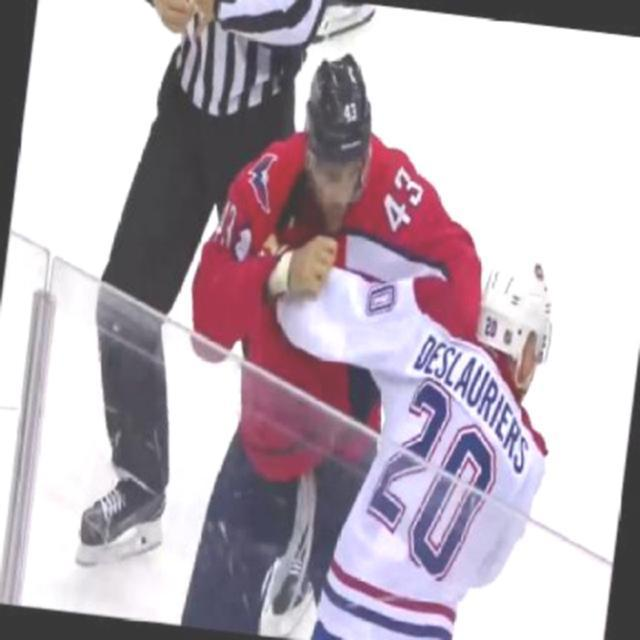fight: (157, 39, 592, 624)
